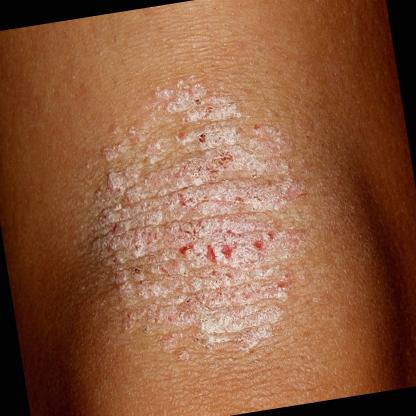Psoriasis: (66, 51, 323, 386)
